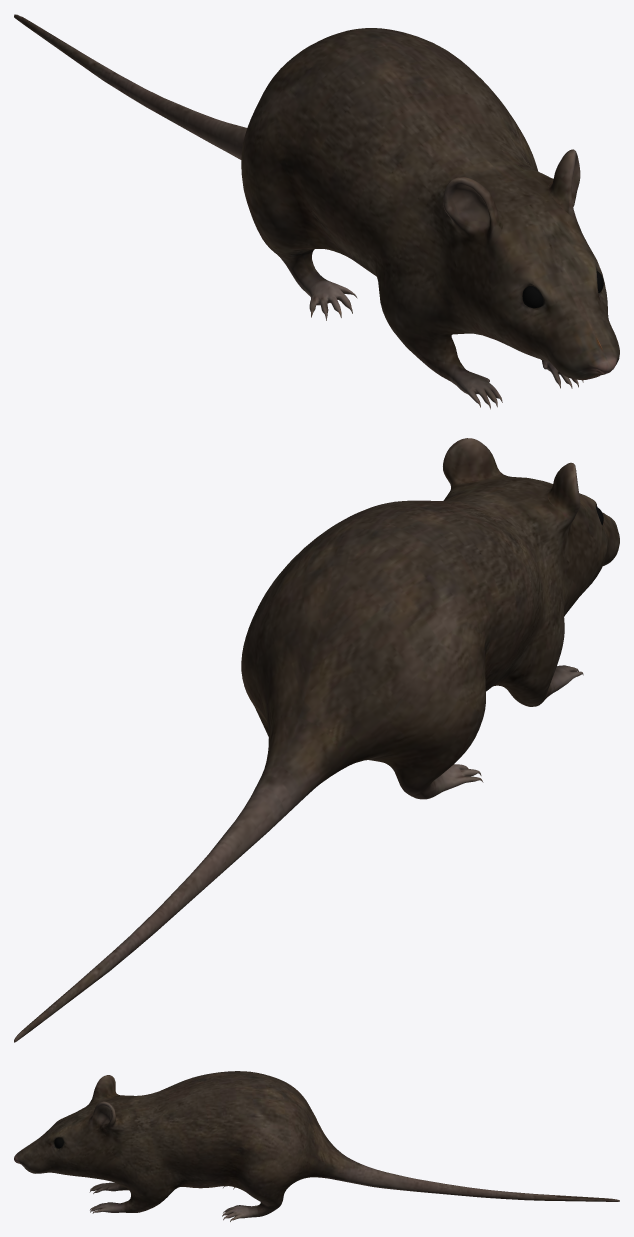
File: polyhaven-street-rat.glb
The picture shows the model from 3 angles, top to bottom: view 1: azimuth 30°, elevation 25°; view 2: azimuth 150°, elevation 25°; view 3: azimuth 270°, elevation 25°; orthographic projection. The views are drawn at different scales.
Parts seen in each view (by area): view 1: street_rat; view 2: street_rat; view 3: street_rat.
Boxes of the visible parts, <box> form: street_rat: <box>14,14,619,409</box>; street_rat: <box>14,438,619,1042</box>; street_rat: <box>14,1071,619,1221</box>.
Size of the model in its own units: 0.032 by 0.0339 by 0.1483.
Materials: 1 (1 with a texture image).
